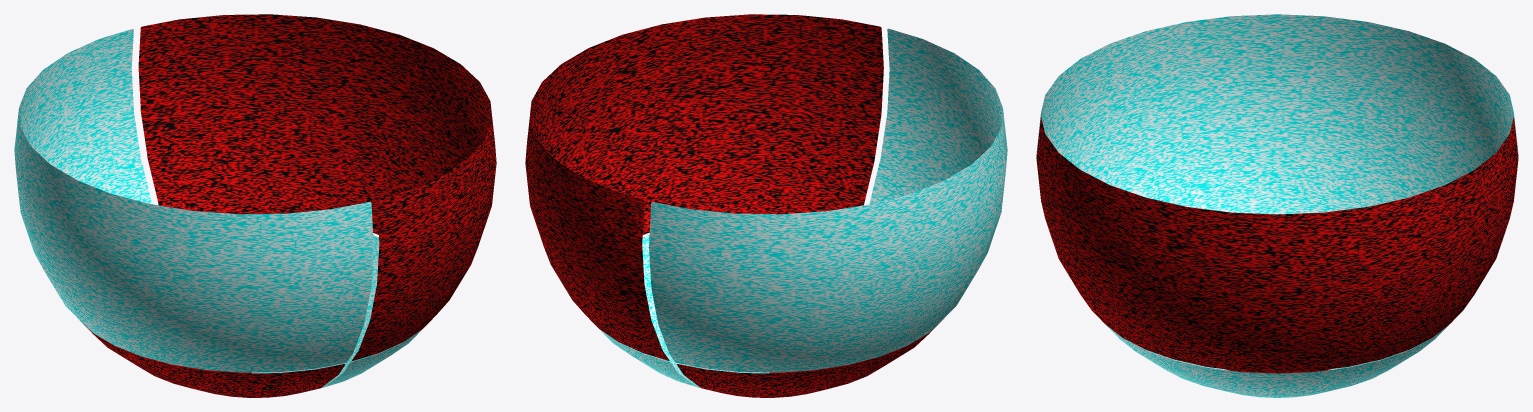
Rendered from SM_Halfsphere_01_KMH.fbx.
3 renders of one model, left to right at view 1: azimuth 30°, elevation 25°; view 2: azimuth 150°, elevation 25°; view 3: azimuth 270°, elevation 25°, orthographic.
Parts seen in each view (by area): view 1: SM_Halfsphere_01_KMH; view 2: SM_Halfsphere_01_KMH; view 3: SM_Halfsphere_01_KMH.
Boxes of the visible parts, x1,y1,x2,y2 form: SM_Halfsphere_01_KMH: (14, 14, 496, 397); SM_Halfsphere_01_KMH: (525, 14, 1007, 397); SM_Halfsphere_01_KMH: (1036, 14, 1518, 397).
Size of the model in its own units: 55.42 by 33.12 by 55.42.
